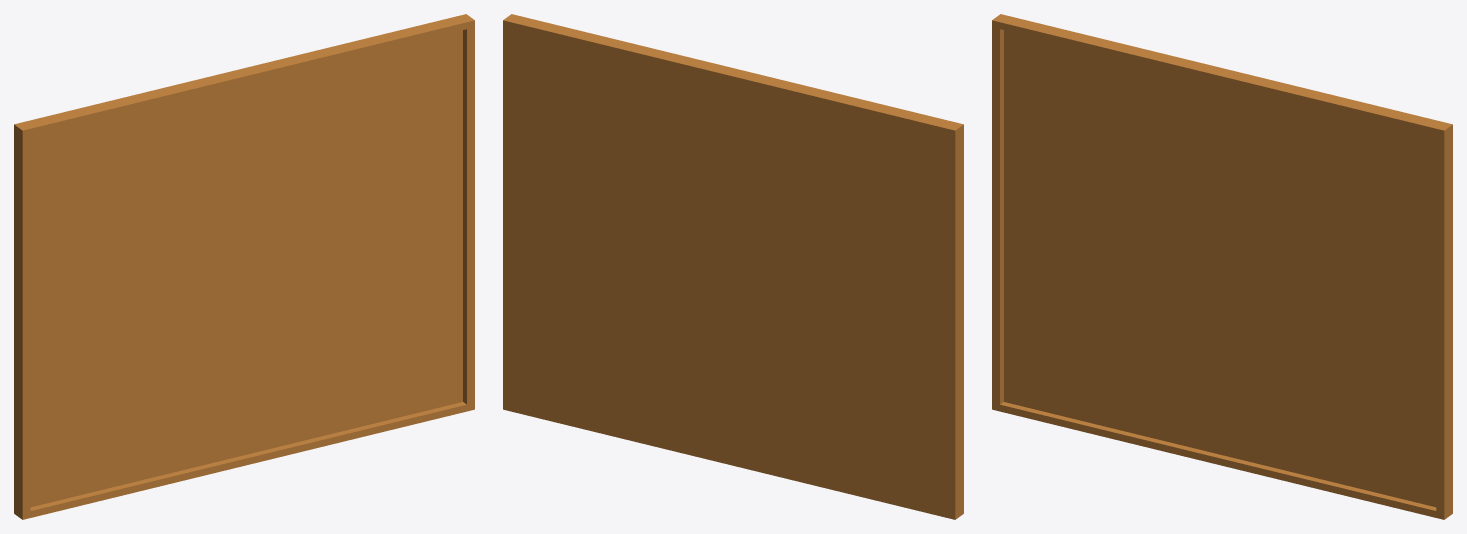
3 views of the same model, side by side, from view 1: azimuth 30°, elevation 25°; view 2: azimuth 150°, elevation 25°; view 3: azimuth 330°, elevation 25° (orthographic).
Parts seen in each view (by area): view 1: pCube1; view 2: pCube1; view 3: pCube1.
Part boxes in pixels (x1,y1,x2,y2): pCube1: [14, 14, 474, 519]; pCube1: [503, 14, 963, 519]; pCube1: [992, 14, 1452, 519].
Size of the model in its own units: 5.09 by 4.18 by 0.1679.
